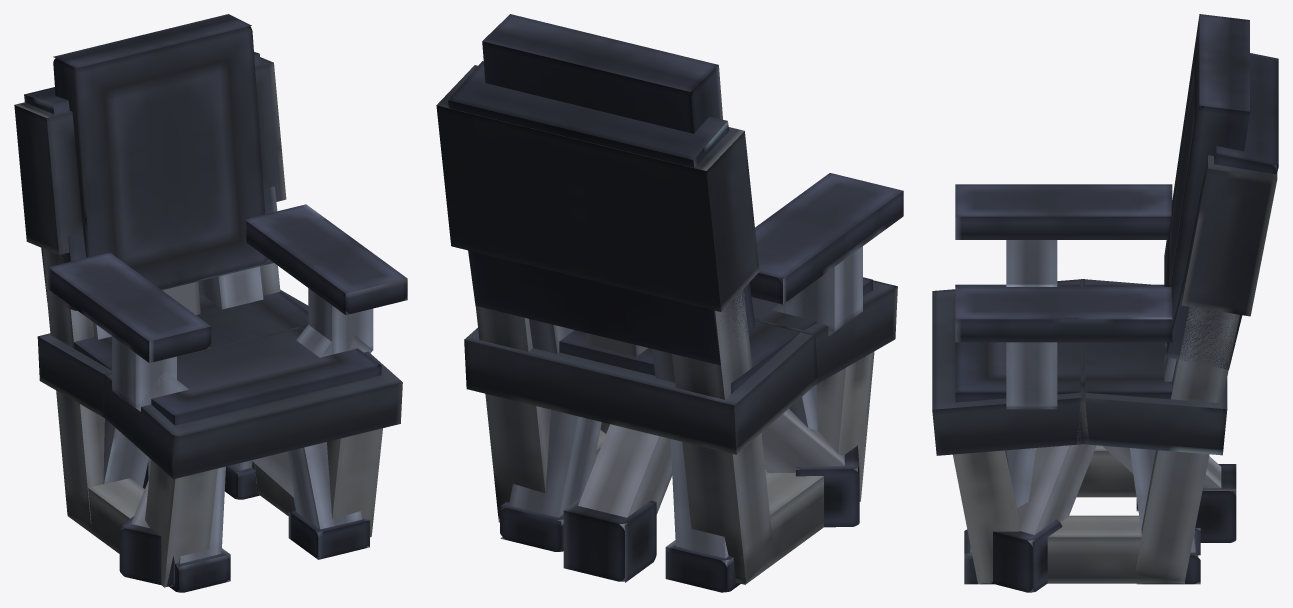
Rendered from Chair_03.fbx.
3 views of the same model, side by side, from view 1: azimuth 30°, elevation 25°; view 2: azimuth 150°, elevation 25°; view 3: azimuth 270°, elevation 25° (orthographic). The views are drawn at different scales.
Visible parts, largest first — view 1: cube_12, cube_1, cube_11, cube_3, cube_27, cube_26, cube_10, cube, cube_8, cube_2, cube_25, cube_31 (+17 smaller); view 2: cube_3, cube_21, cube_2, cube_12, cube_27, cube, cube_14, cube_17, cube_9, cube_22, cube_1, cube_11 (+13 smaller); view 3: cube_26, cube_27, cube_12, cube_3, cube_1, cube_11, cube_2, cube_9, cube_21, cube_5, cube_8, cube_6 (+11 smaller).
Part boxes in pixels (left/top/right/bottom): cube_12: left=53, top=14, right=267, bottom=288; cube_1: left=102, top=324, right=402, bottom=479; cube_11: left=57, top=291, right=381, bottom=437; cube_3: left=14, top=57, right=286, bottom=254; cube_27: left=48, top=252, right=211, bottom=362; cube_26: left=244, top=204, right=407, bottom=315; cube_10: left=145, top=460, right=217, bottom=587; cube: left=56, top=390, right=104, bottom=524; cube_8: left=327, top=428, right=382, bottom=537; cube_2: left=37, top=290, right=308, bottom=417; cube_25: left=287, top=442, right=362, bottom=536; cube_31: left=112, top=336, right=176, bottom=407; cube_3: left=436, top=65, right=759, bottom=311; cube_21: left=448, top=61, right=755, bottom=365; cube_2: left=464, top=318, right=817, bottom=454; cube_12: left=482, top=14, right=722, bottom=133; cube_27: left=749, top=173, right=903, bottom=304; cube: left=682, top=433, right=773, bottom=582; cube_14: left=578, top=424, right=672, bottom=530; cube_17: left=563, top=498, right=656, bottom=582; cube_9: left=485, top=393, right=550, bottom=522; cube_22: left=509, top=409, right=601, bottom=521; cube_1: left=754, top=280, right=897, bottom=384; cube_11: left=559, top=277, right=872, bottom=393; cube_26: left=955, top=287, right=1172, bottom=342; cube_27: left=955, top=184, right=1172, bottom=239; cube_12: left=1164, top=14, right=1249, bottom=346; cube_3: left=1181, top=106, right=1277, bottom=316; cube_1: left=932, top=279, right=1089, bottom=455; cube_11: left=955, top=284, right=1171, bottom=402; cube_2: left=1077, top=279, right=1227, bottom=455; cube_9: left=1134, top=450, right=1209, bottom=582; cube_21: left=1166, top=53, right=1278, bottom=369; cube_5: left=983, top=515, right=1184, bottom=583; cube_8: left=953, top=450, right=1019, bottom=584; cube_6: left=1171, top=307, right=1239, bottom=403.
Size of the model in its own units: 78.12 by 128 by 84.82.
